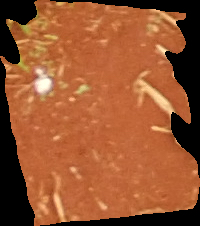soil: (1, 1, 199, 222)
